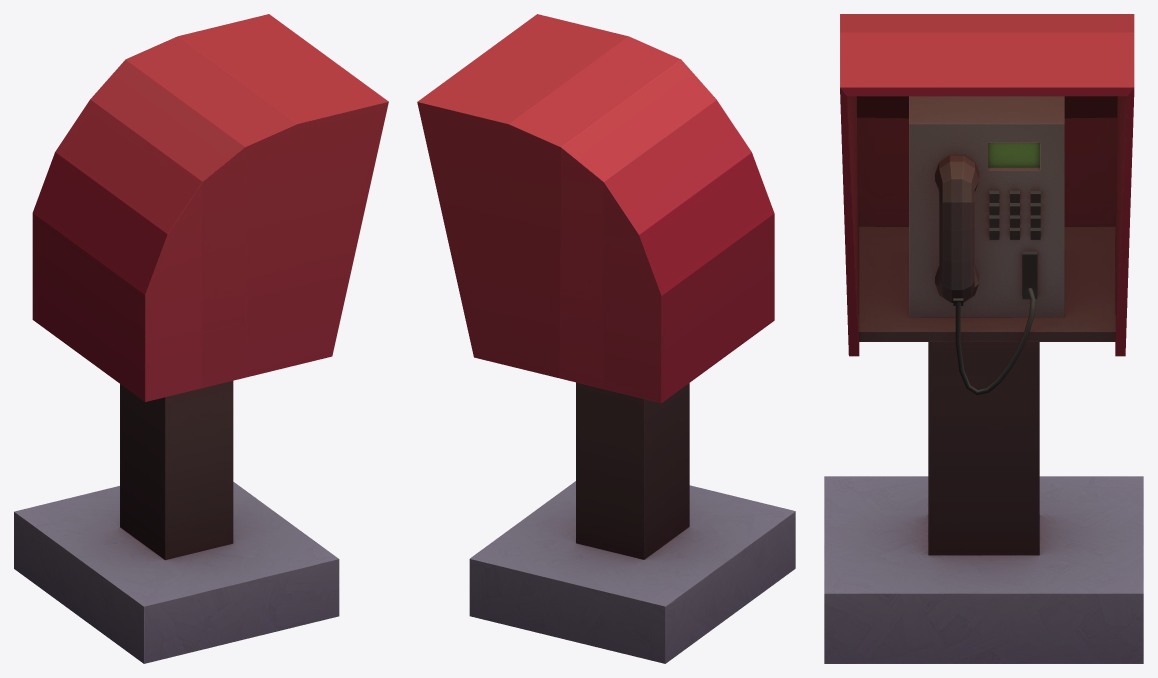
The model's file is telefono.glb.
3 views of the same model, side by side, from view 1: azimuth 30°, elevation 25°; view 2: azimuth 150°, elevation 25°; view 3: azimuth 270°, elevation 25° (orthographic). The views are drawn at different scales.
Parts seen in each view (by area): view 1: Cube.120, Cube.125, Cube.119; view 2: Cube.120, Cube.125, Cube.119; view 3: Cube.125, Cube.120, Cube.119, Cube.121, Cylinder.002, Cube.124.
Part boxes in pixels (x1,y1,x2,y2): Cube.120: [32, 14, 388, 401]; Cube.125: [14, 482, 339, 663]; Cube.119: [120, 381, 233, 559]; Cube.120: [417, 14, 774, 403]; Cube.125: [469, 481, 795, 663]; Cube.119: [576, 382, 689, 559]; Cube.125: [824, 476, 1143, 663]; Cube.120: [840, 14, 1134, 356]; Cube.119: [858, 226, 1115, 555]; Cube.121: [909, 96, 1064, 317]; Cylinder.002: [935, 155, 978, 302]; Cube.124: [953, 190, 1040, 395].
Size of the model in its own units: 0.8908 by 1.68 by 0.7978.
6 materials, 6 textured.
